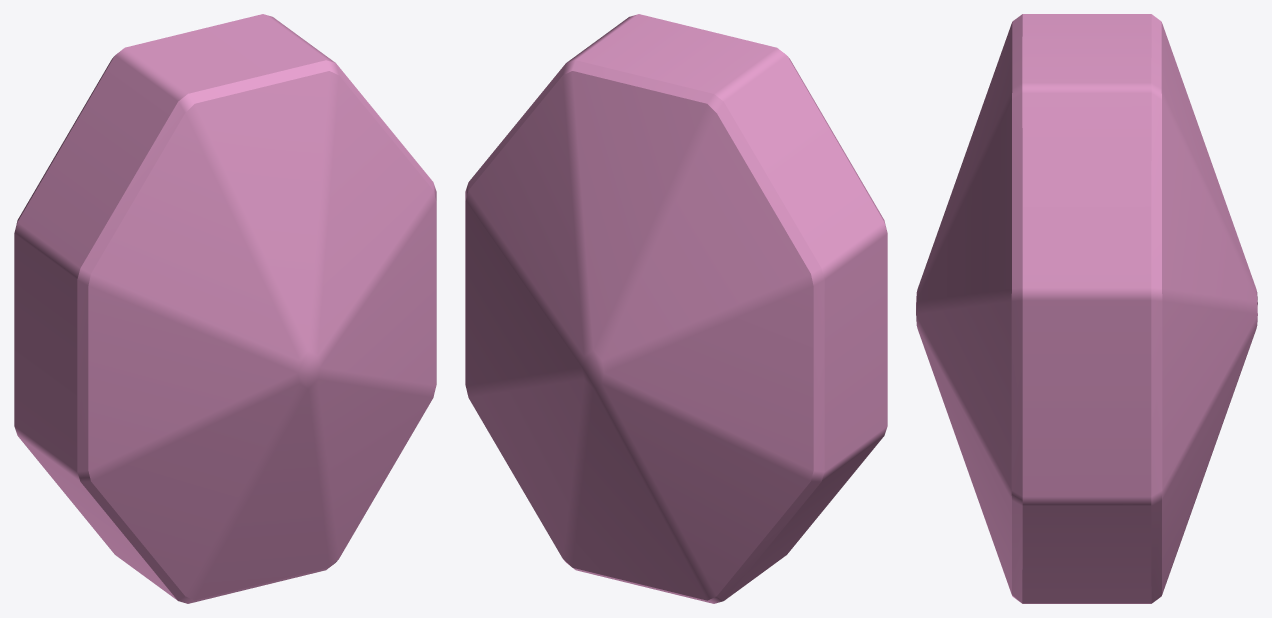
The model's file is AmethystJewel.fbx.
3 views of the same model, side by side, from view 1: azimuth 30°, elevation 25°; view 2: azimuth 150°, elevation 25°; view 3: azimuth 270°, elevation 25° (orthographic). The views are drawn at different scales.
Parts seen in each view (by area): view 1: AmethystJewel; view 2: AmethystJewel; view 3: AmethystJewel.
Part boxes in pixels (box(x1,y1,x2,y2)): AmethystJewel: box(14, 14, 436, 603); AmethystJewel: box(465, 14, 887, 603); AmethystJewel: box(916, 14, 1257, 603).
Bounding box in the file's own units: 75.24 × 102 × 60.64.
